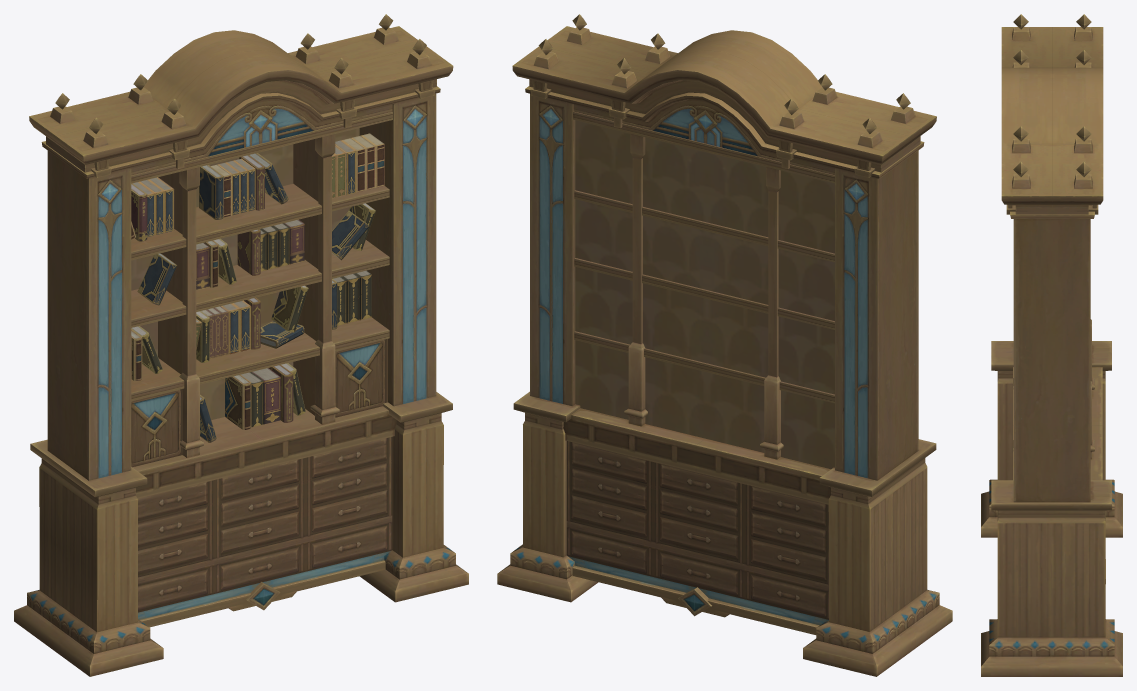
The model's file is Homeworld_Interior_Fd_Cabinet_Prop_Shujia_01_Vo.fbx.
The picture shows the model from 3 angles, left to right: view 1: azimuth 30°, elevation 25°; view 2: azimuth 150°, elevation 25°; view 3: azimuth 270°, elevation 25°; orthographic projection. The views are drawn at different scales.
Visible parts, largest first — view 1: Indoor_Fd_Prop_Cabinet_A_02_Vo; view 2: Indoor_Fd_Prop_Cabinet_A_02_Vo; view 3: Indoor_Fd_Prop_Cabinet_A_02_Vo.
Boxes of the visible parts, x1,y1,x2,y2 form: Indoor_Fd_Prop_Cabinet_A_02_Vo: (14,14,468,676); Indoor_Fd_Prop_Cabinet_A_02_Vo: (497,14,952,676); Indoor_Fd_Prop_Cabinet_A_02_Vo: (981,14,1122,676).
Size of the model in its own units: 2.5 by 3.48 by 0.8684.
